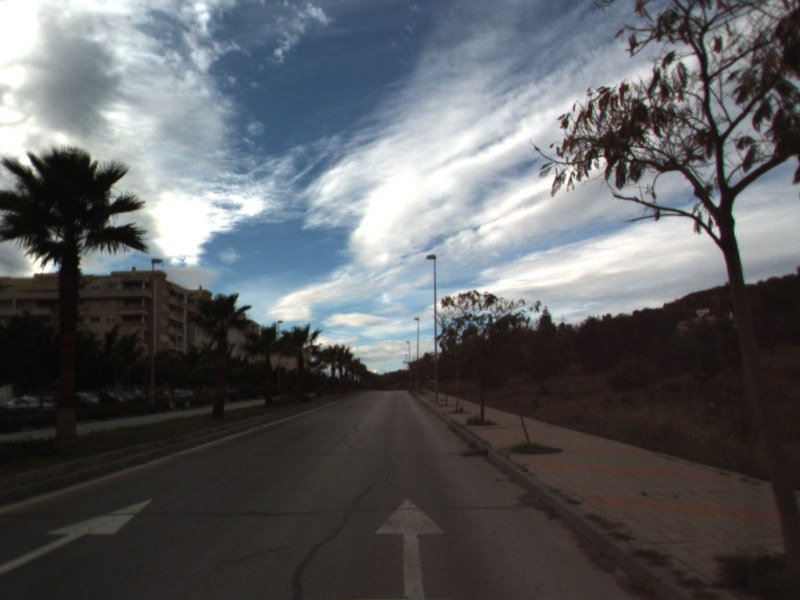STRAIGHT: (1, 496, 156, 576), (373, 495, 448, 600)
